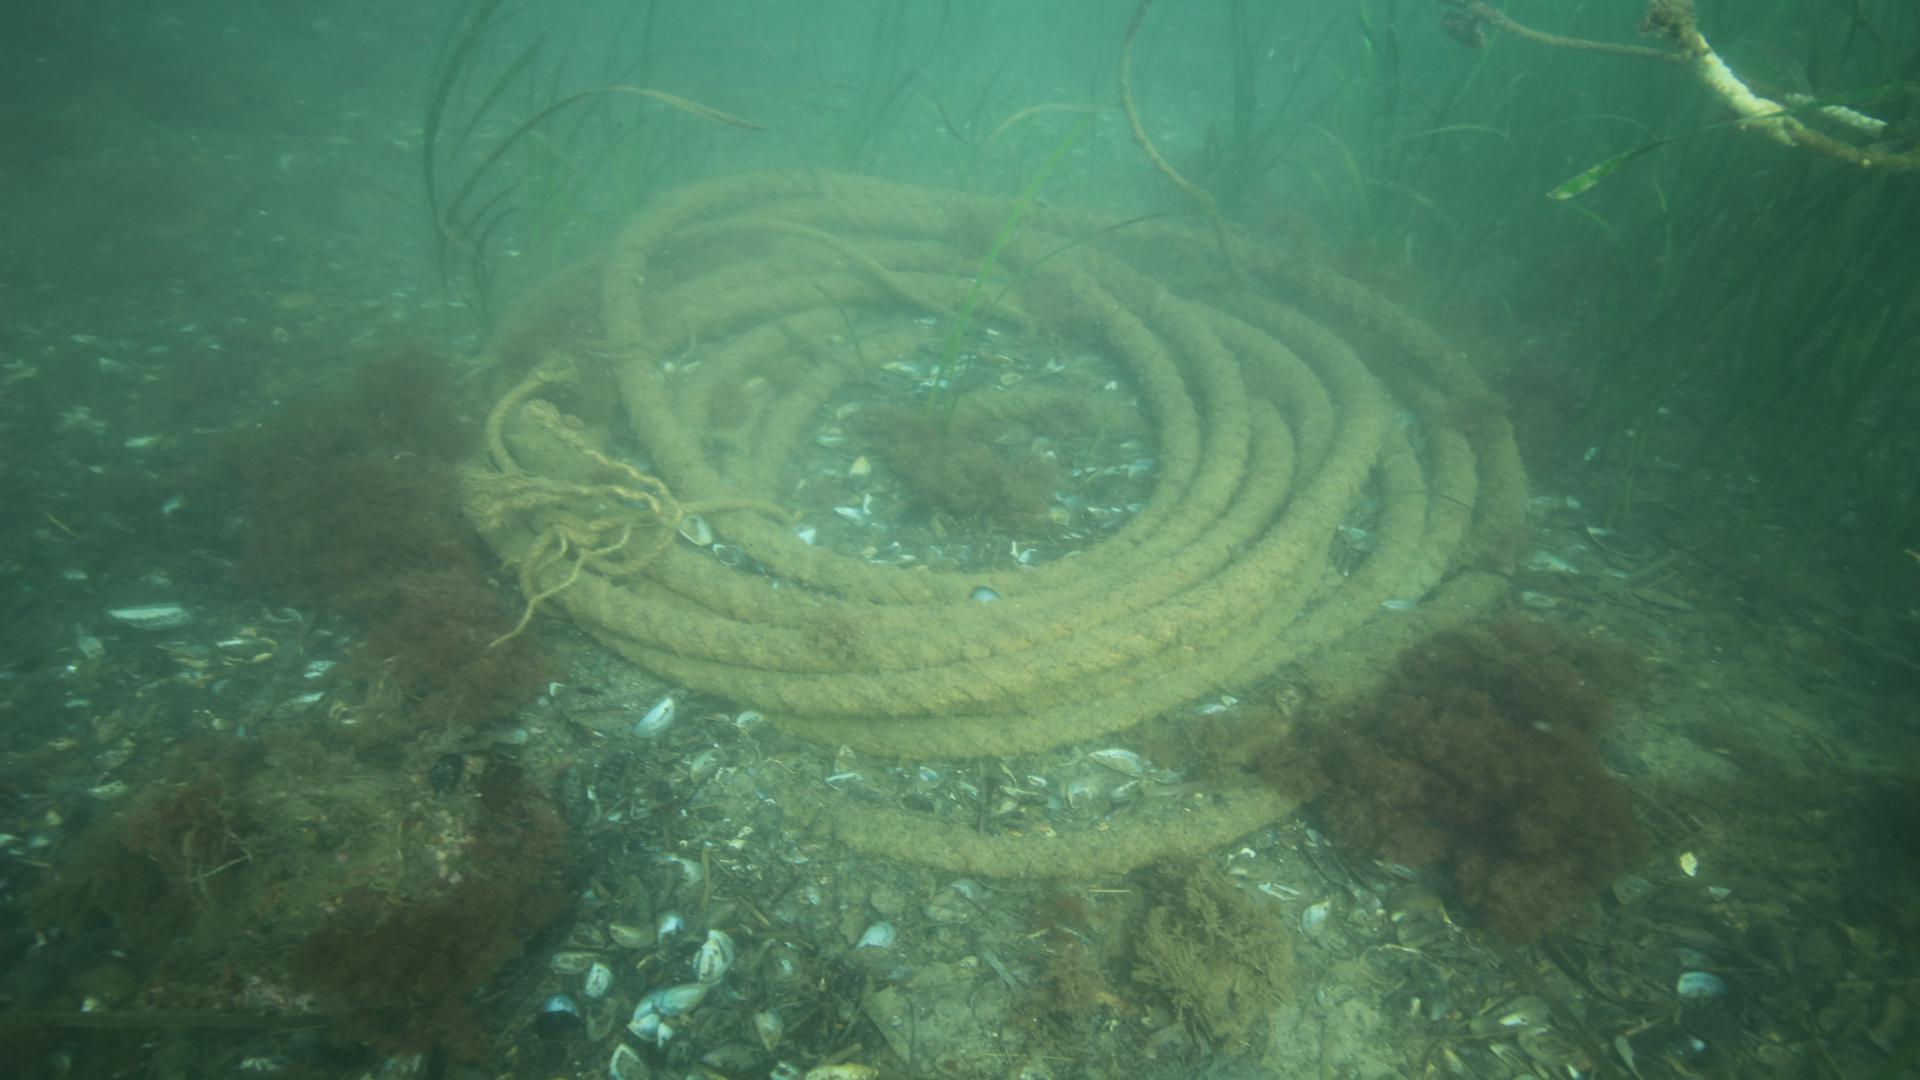bundle of ropes: (456, 164, 1528, 873)
